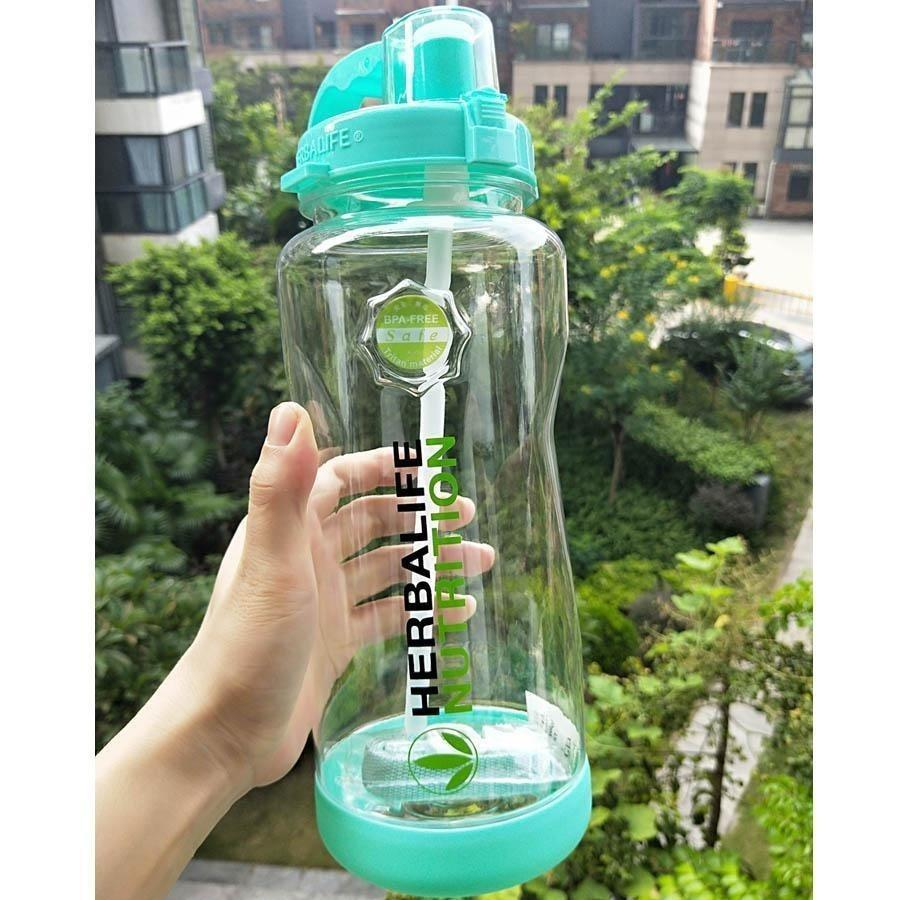gym bottle: (273, 0, 592, 897)
